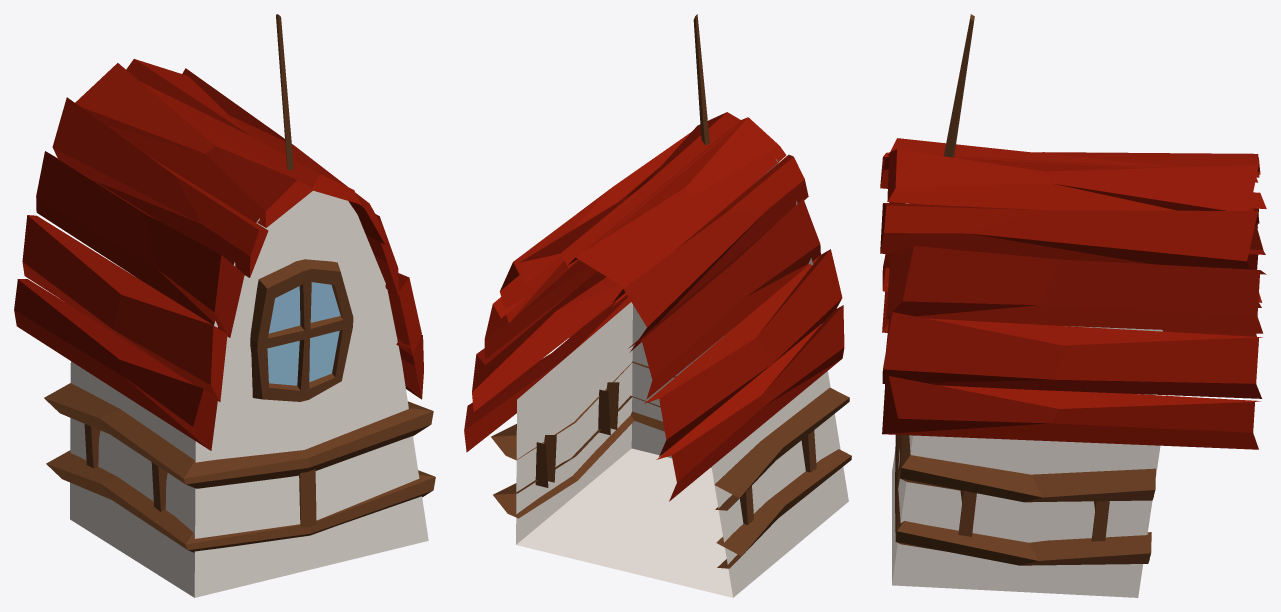
The model's file is SM_L_Modular_Windowpopup_Round.fbx.
3 views of the same model, side by side, from view 1: azimuth 30°, elevation 25°; view 2: azimuth 150°, elevation 25°; view 3: azimuth 270°, elevation 25° (orthographic). The views are drawn at different scales.
Visible parts, largest first — view 1: SM_Window_Popup_curve; view 2: SM_Window_Popup_curve; view 3: SM_Window_Popup_curve.
Part boxes in pixels (bbox=[...]): SM_Window_Popup_curve: bbox=[14, 14, 435, 597]; SM_Window_Popup_curve: bbox=[464, 14, 851, 597]; SM_Window_Popup_curve: bbox=[880, 14, 1266, 597].
Bounding box in the file's own units: 192 × 366 × 242.
